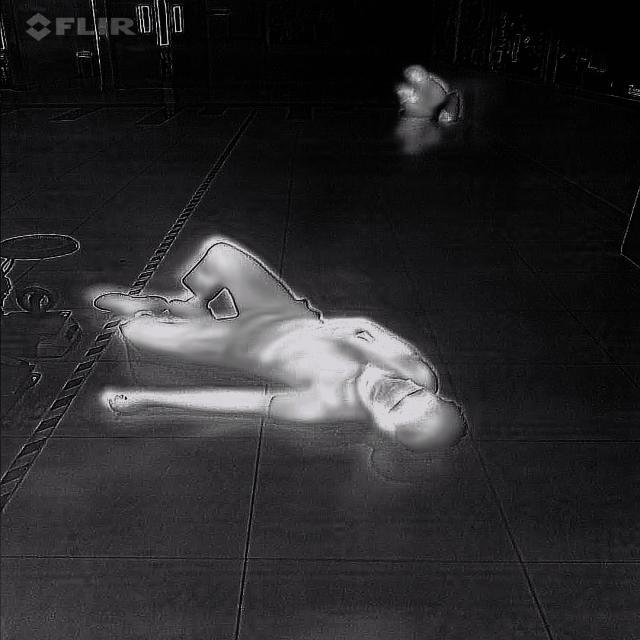Victim: (77, 240, 472, 460), (383, 57, 468, 125)
